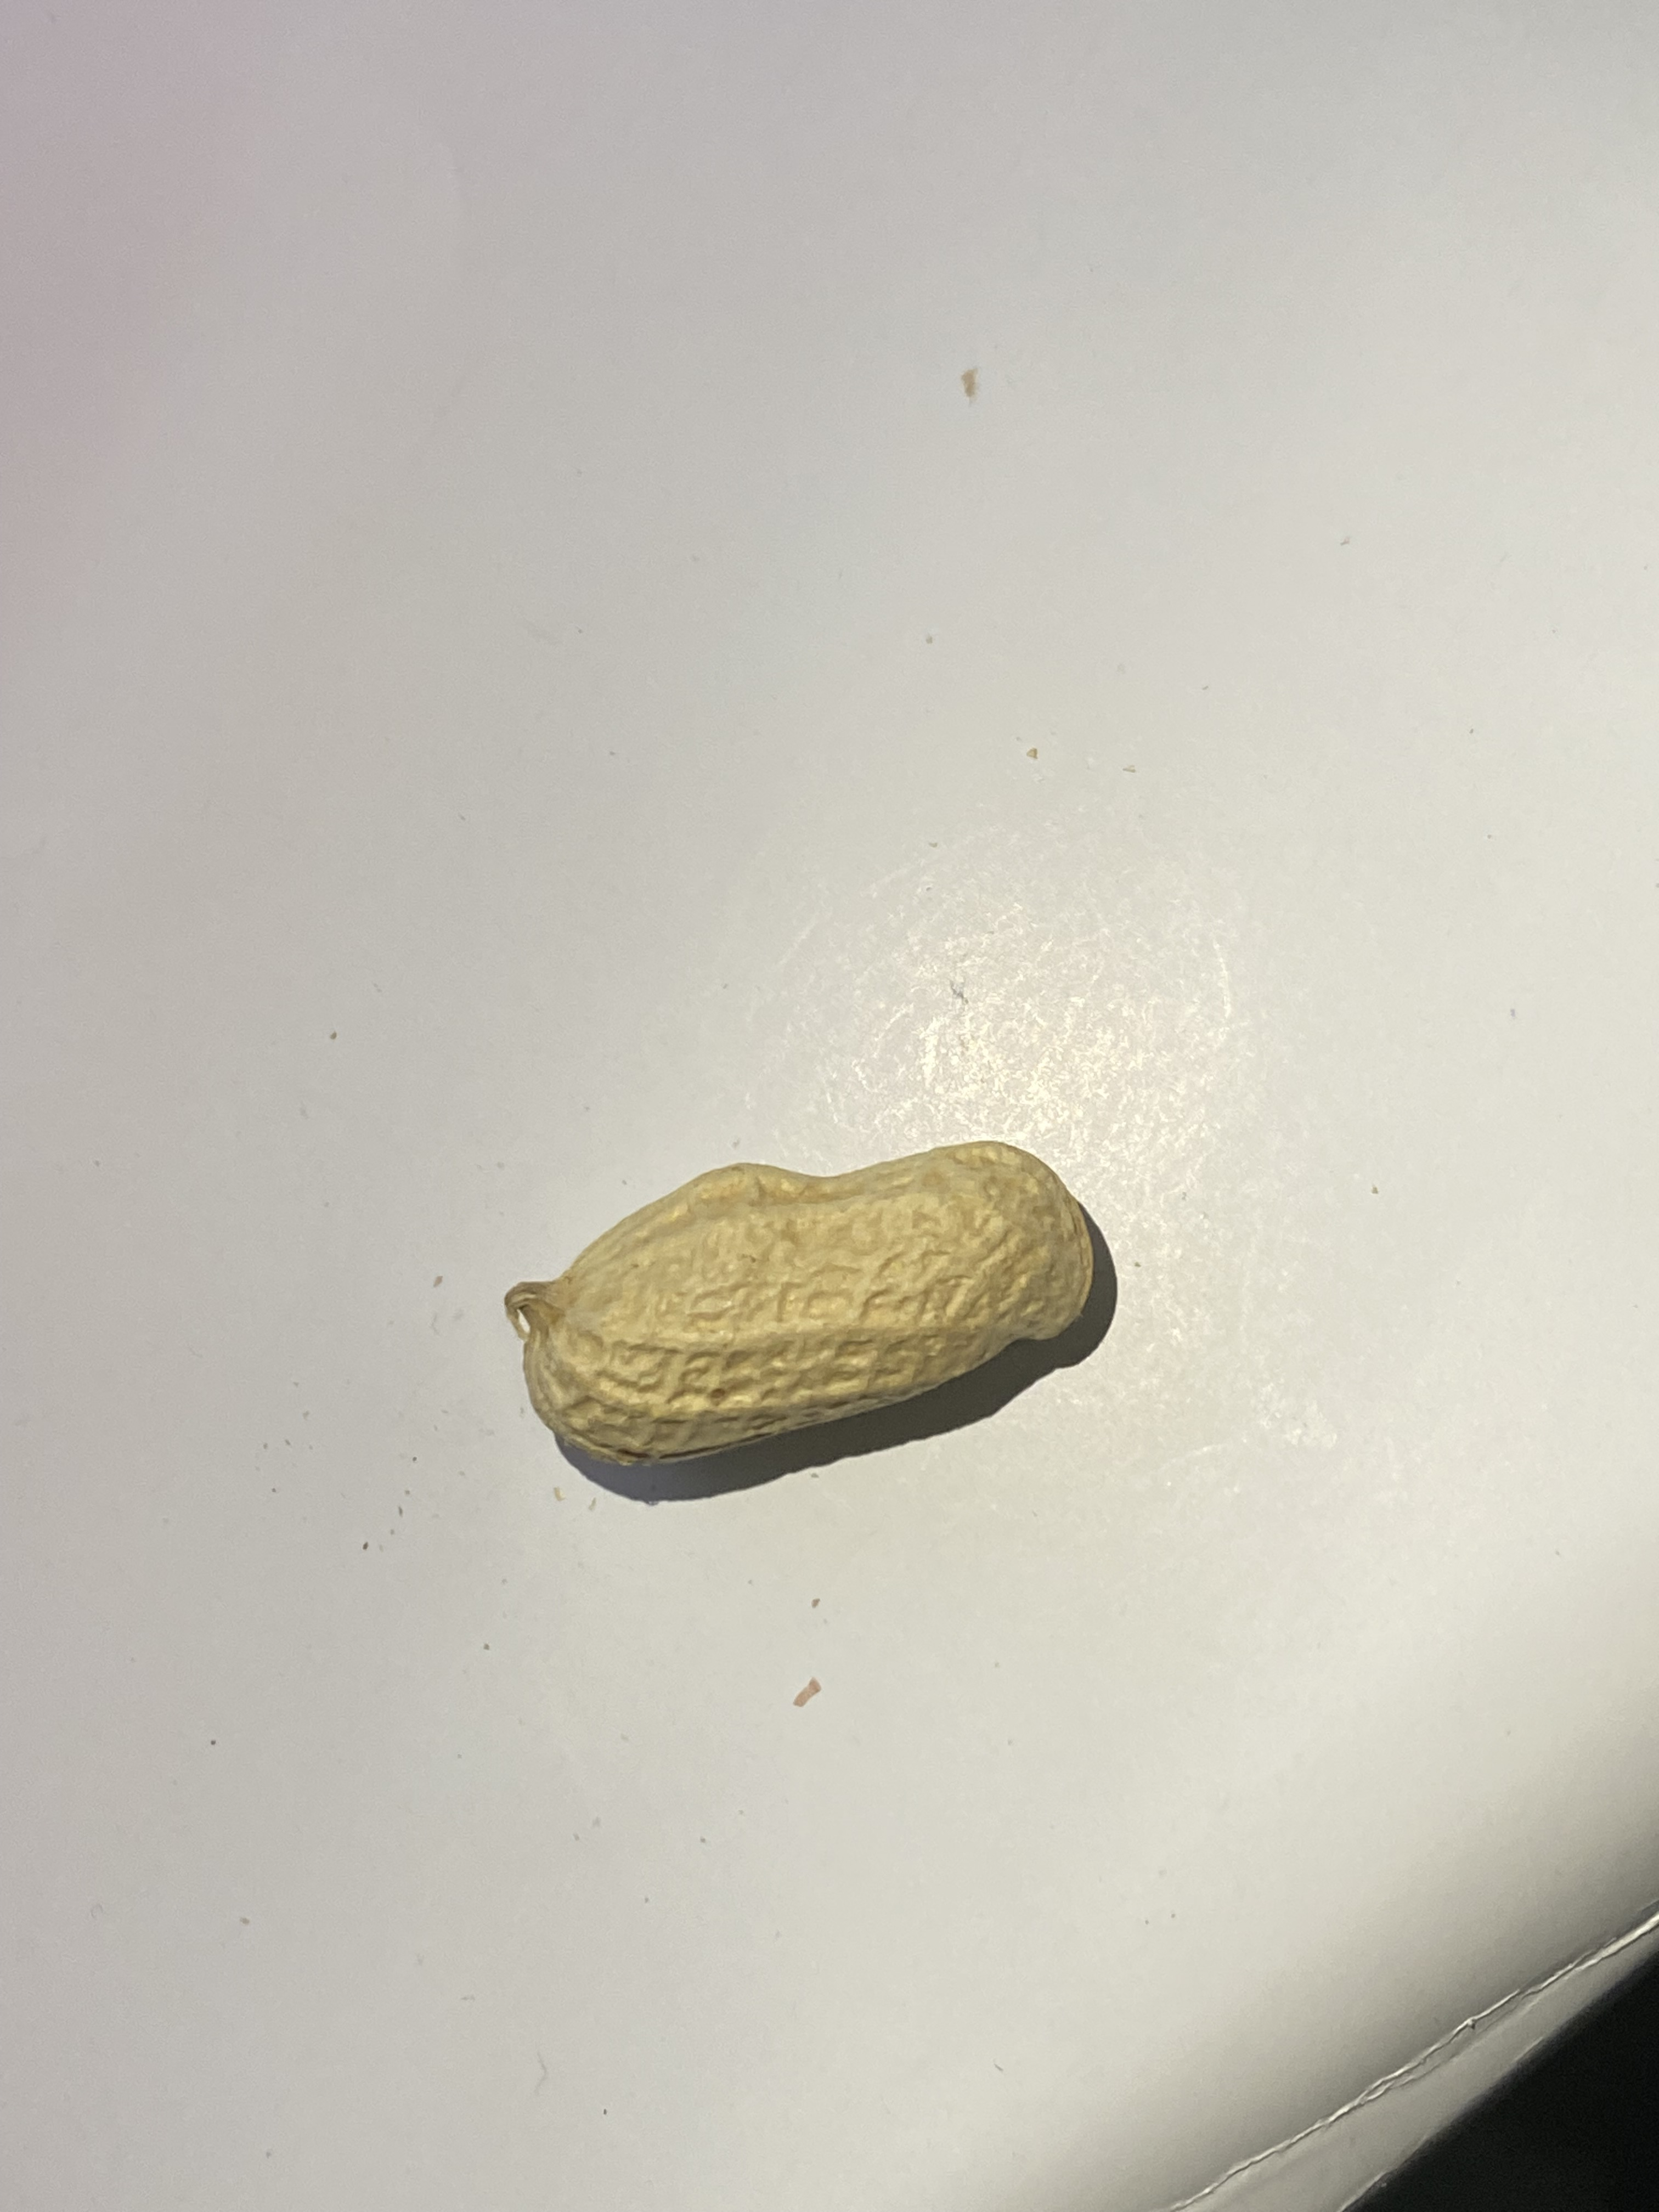kacang2: (477, 1089, 1105, 1500)
